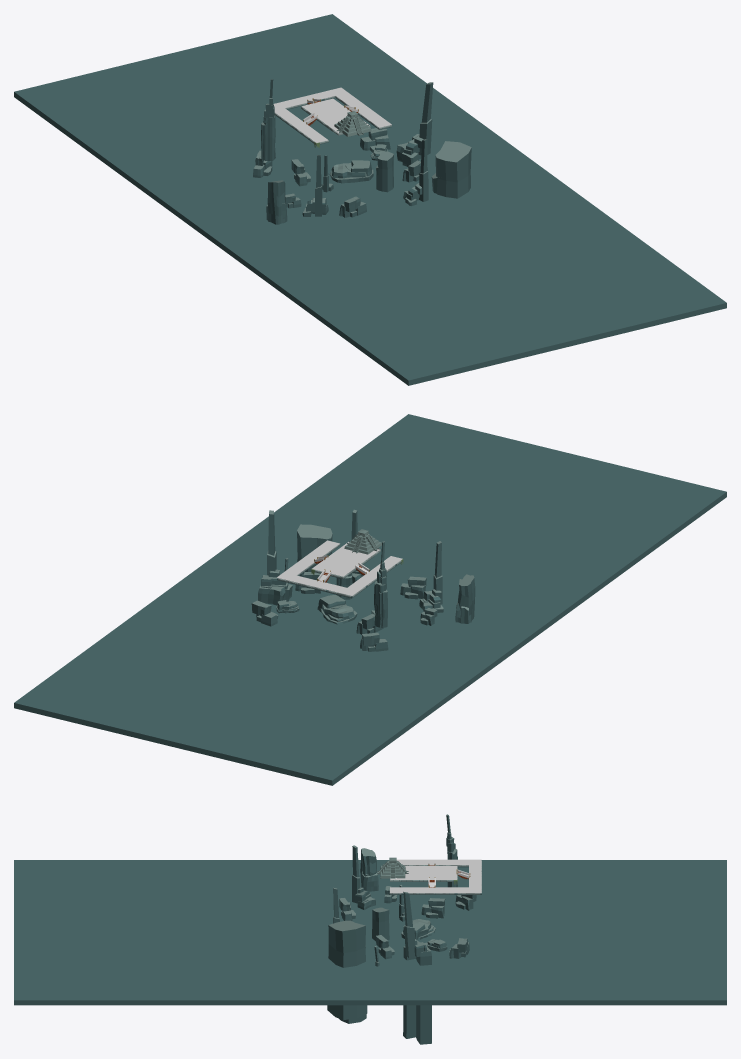
Rendered from map_v14.fbx.
3 renders of one model, top to bottom at view 1: azimuth 30°, elevation 25°; view 2: azimuth 150°, elevation 25°; view 3: azimuth 270°, elevation 25°, orthographic. The views are drawn at different scales.
Visible parts, largest first — view 1: Cube.012, hit_box_2; view 2: Cube.012, hit_box_2; view 3: Cube.012, hit_box_2.
Boxes of the visible parts, bbox=[...] form: Cube.012: bbox=[14, 14, 726, 385]; hit_box_2: bbox=[273, 87, 391, 143]; Cube.012: bbox=[14, 414, 726, 785]; hit_box_2: bbox=[276, 540, 402, 595]; Cube.012: bbox=[14, 814, 726, 1044]; hit_box_2: bbox=[390, 859, 481, 893].
Size of the model in its own units: 12395 by 6988 by 26600.
